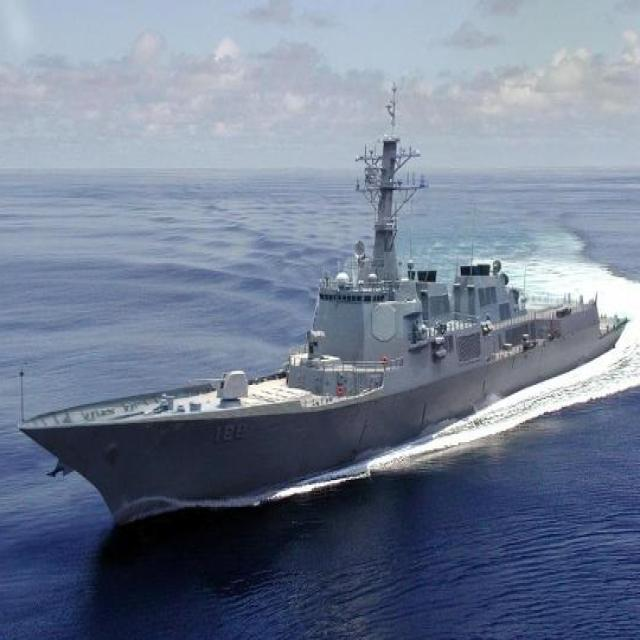navalvessels: (13, 103, 636, 524)
